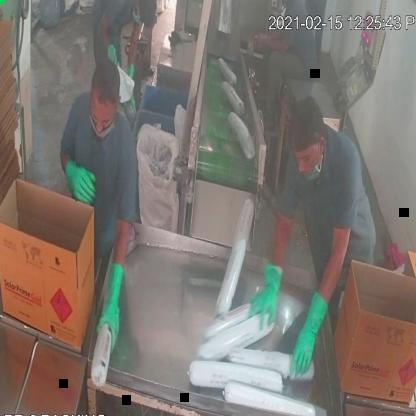glove: (289, 284, 331, 387), (95, 246, 130, 355), (53, 141, 104, 212), (249, 252, 282, 345)
no_glove: (250, 22, 288, 59)
